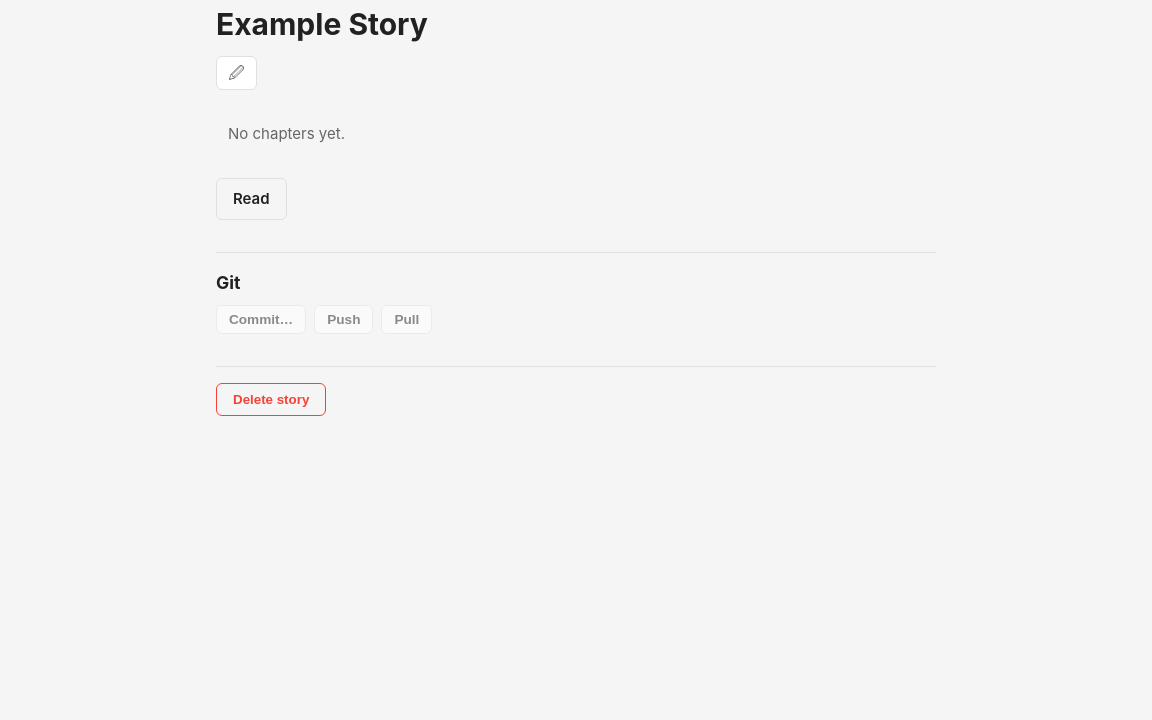
Test: DashboardView.vue › deleting the story › shows a plain failure in the error dialog, not the holds dialog
Click the button "Delete story": click(271, 400) [216,383,326,416]
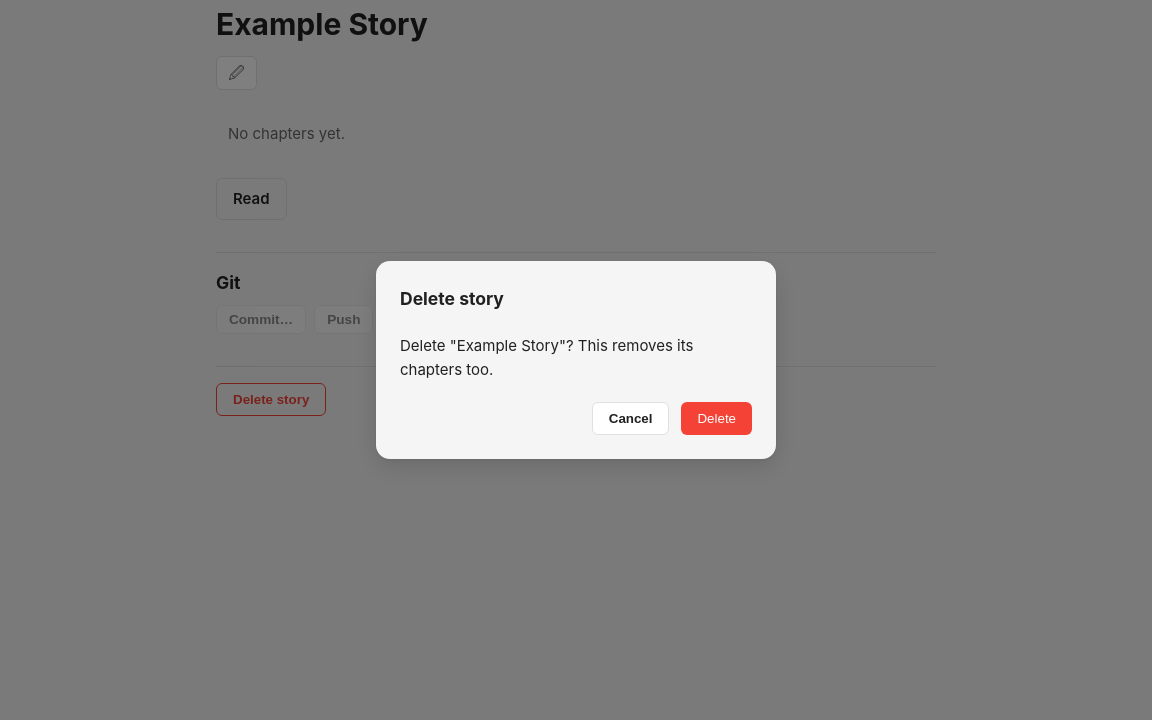
Click the button "Delete": click(717, 418) [682,402,752,434]
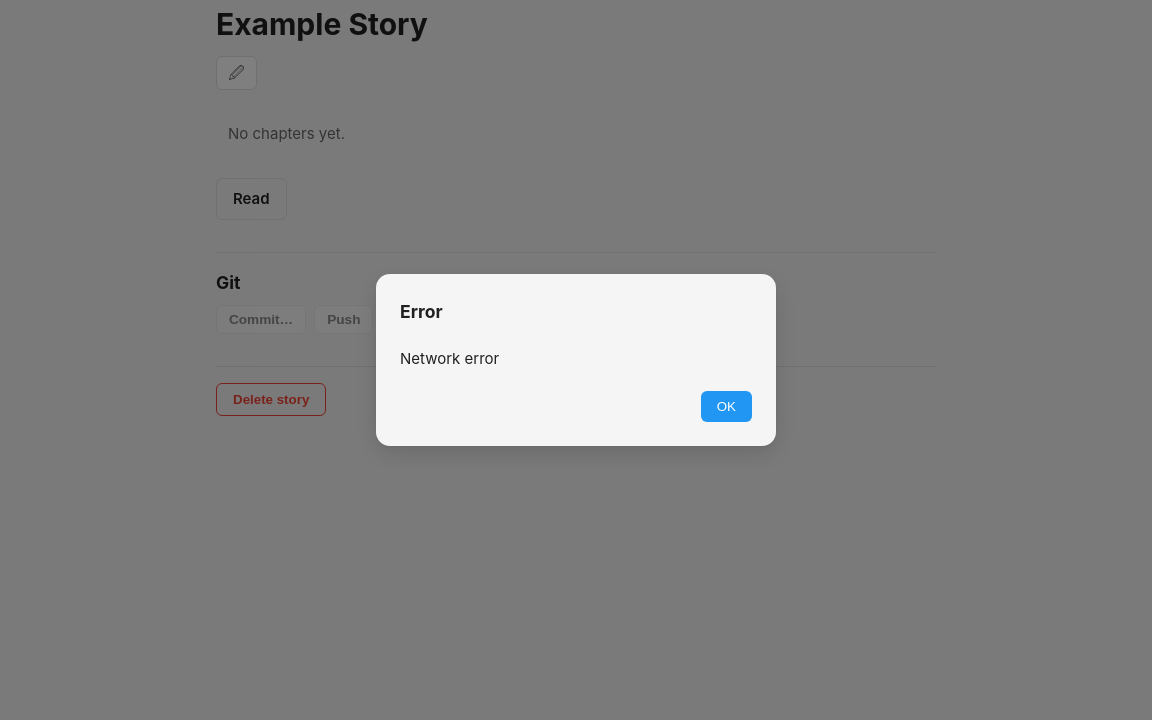
Expected: the text "Network error" is shown, [400,348,499,368]
